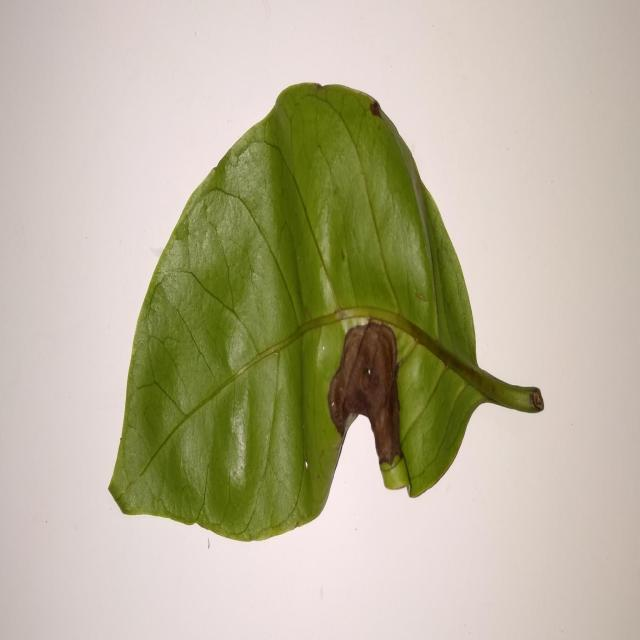Enfermedad-Antracnosis: (108, 84, 545, 544)
